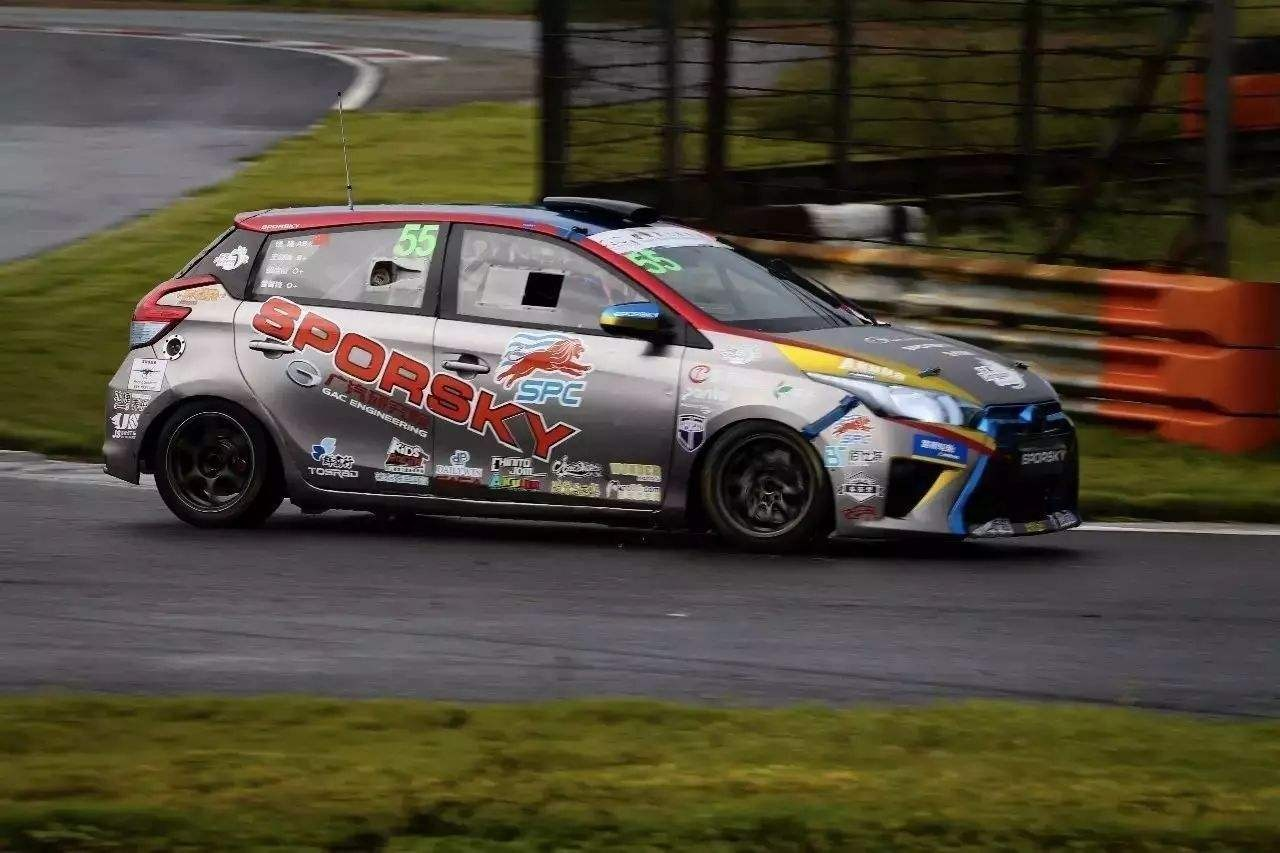racing car: (119, 156, 1093, 581)
